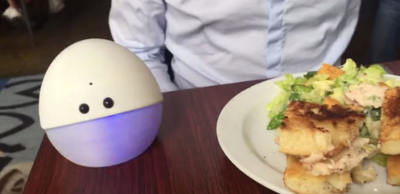mira_robot: (39, 38, 163, 168)
